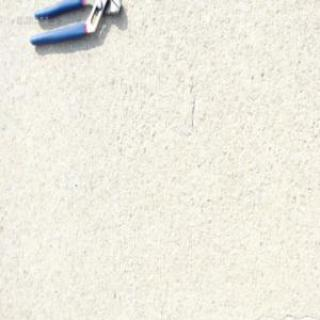Pliertrack_idkeyframe: (29, 0, 124, 48)
